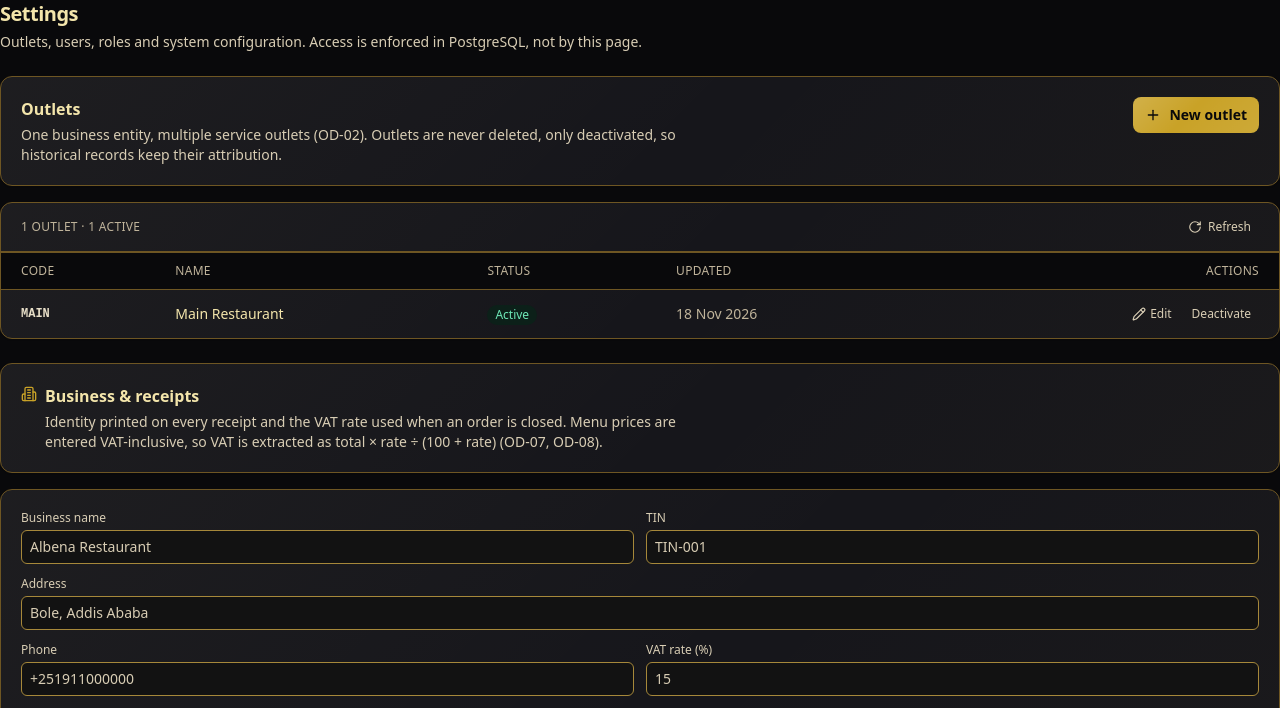
Test: Settings — outlets › creates an outlet after client-side validation
The width and height of the screenshot is (1280, 708).
Expected: the text "Main Restaurant" is shown, [155,290,467,338]
Click the button "New outlet" at (1196, 115), box [1133,97,1259,133]
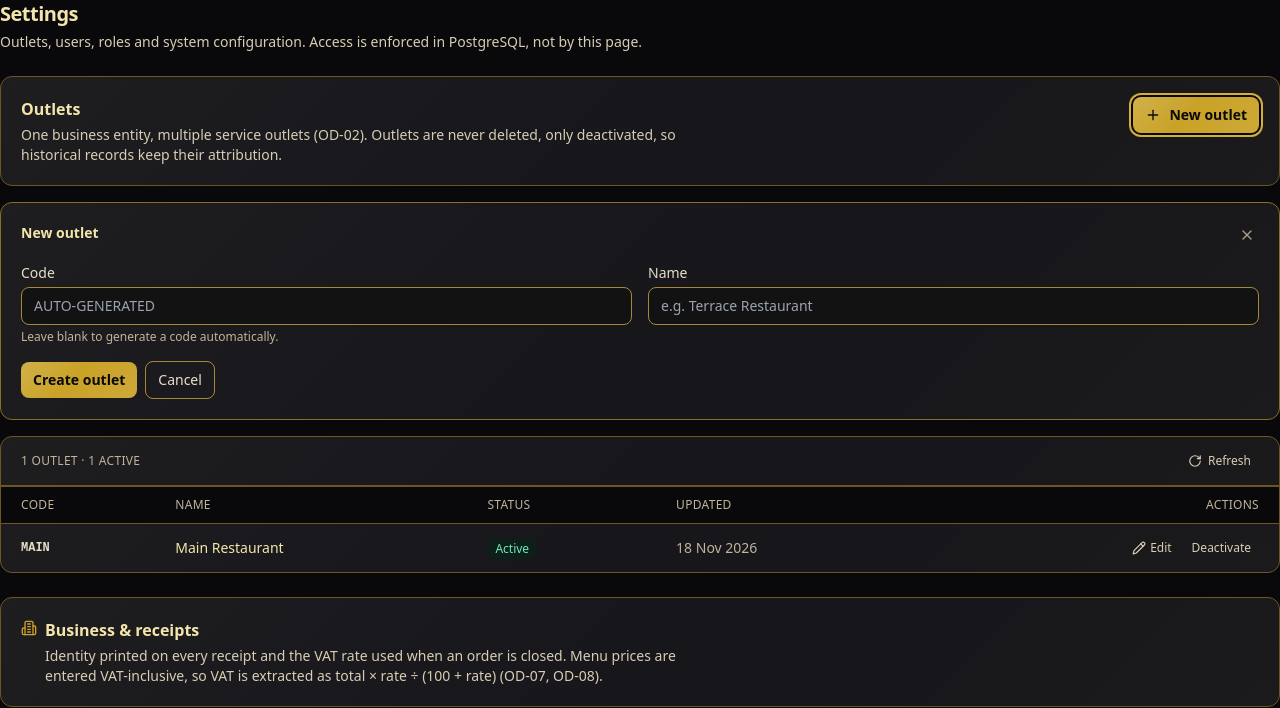
Type "terrace" into the field labelled "Code" at (326, 306), box [21,287,632,325]
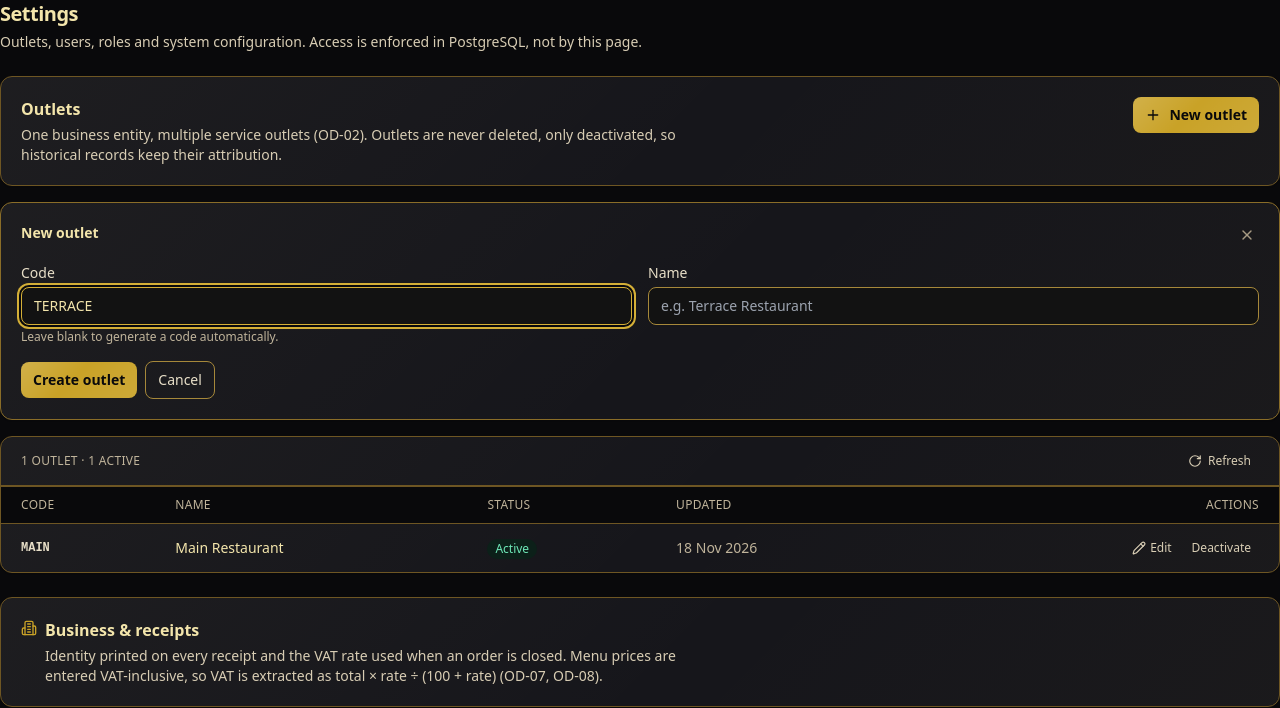
Type "Terrace Restaurant" into the field labelled "Name" at (954, 306), box [648,287,1259,325]
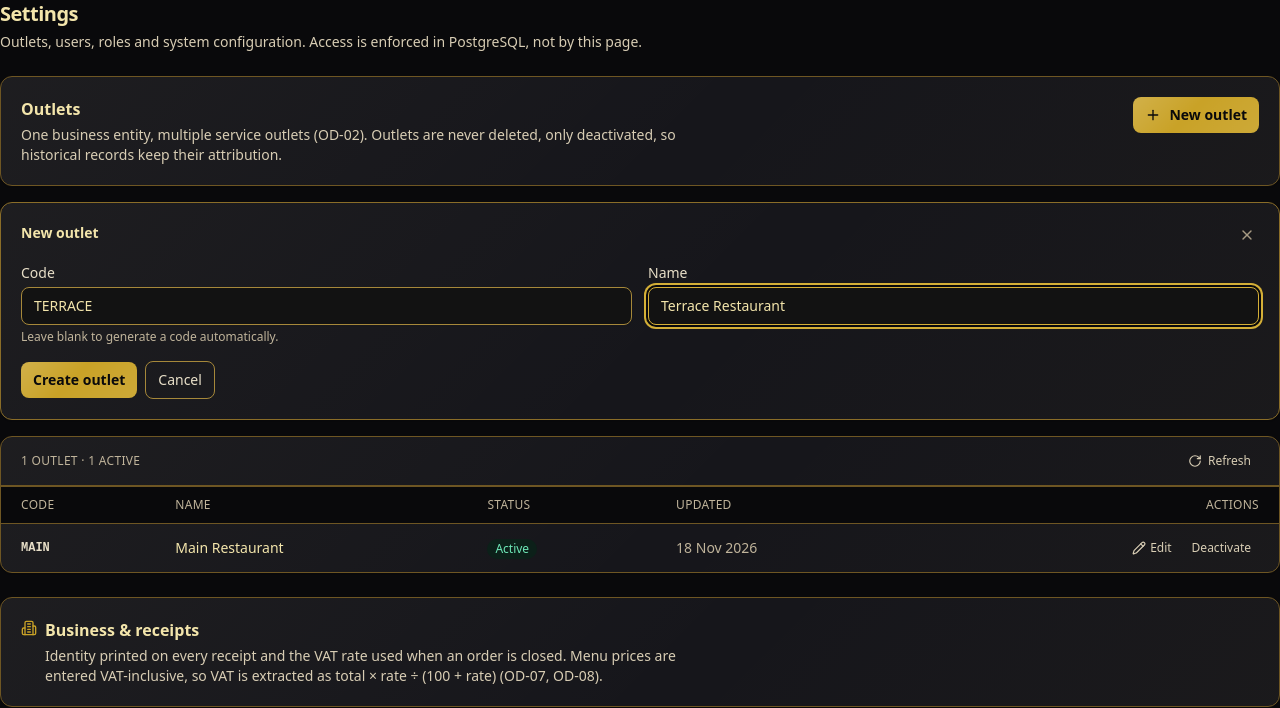
Click the button "Create outlet" at (79, 380), box [21,362,137,398]
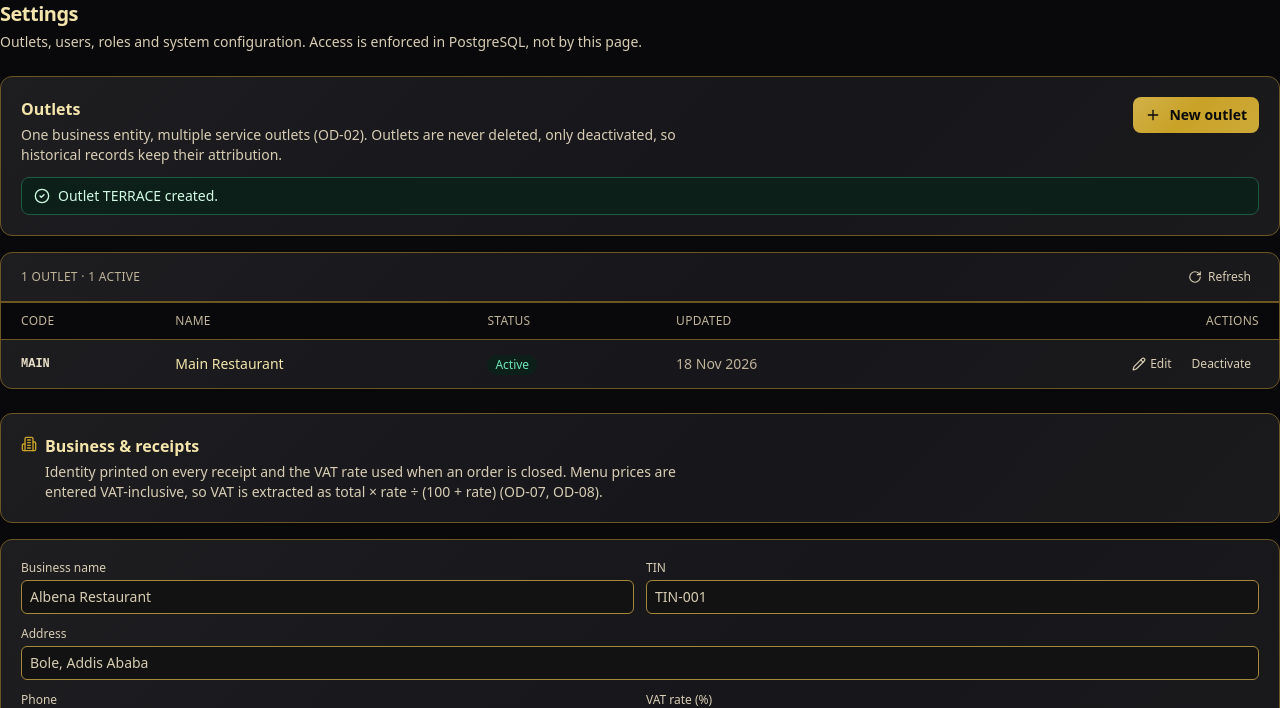
Expected: the message shows "TERRACE created", [58,186,218,205]
